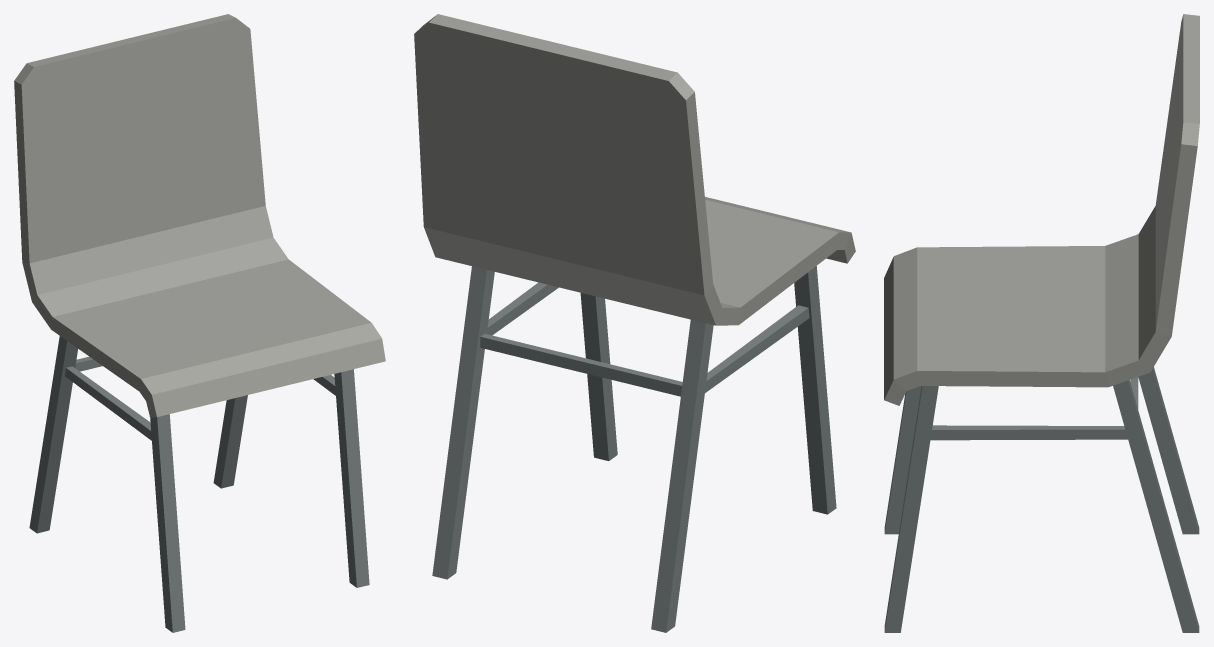
File: SM_Props_Interior_Shop_Restaurant_Chair_03.fbx
3 renders of one model, left to right at view 1: azimuth 30°, elevation 25°; view 2: azimuth 150°, elevation 25°; view 3: azimuth 270°, elevation 25°, orthographic. The views are drawn at different scales.
Parts seen in each view (by area): view 1: SM_Props_Interior_Shop_Restaurant_Chair_03; view 2: SM_Props_Interior_Shop_Restaurant_Chair_03; view 3: SM_Props_Interior_Shop_Restaurant_Chair_03.
Boxes of the visible parts, <box> form: SM_Props_Interior_Shop_Restaurant_Chair_03: <box>14,14,385,632</box>; SM_Props_Interior_Shop_Restaurant_Chair_03: <box>414,14,855,632</box>; SM_Props_Interior_Shop_Restaurant_Chair_03: <box>884,14,1199,632</box>.
Size of the model in its own units: 45 by 85 by 47.48.
